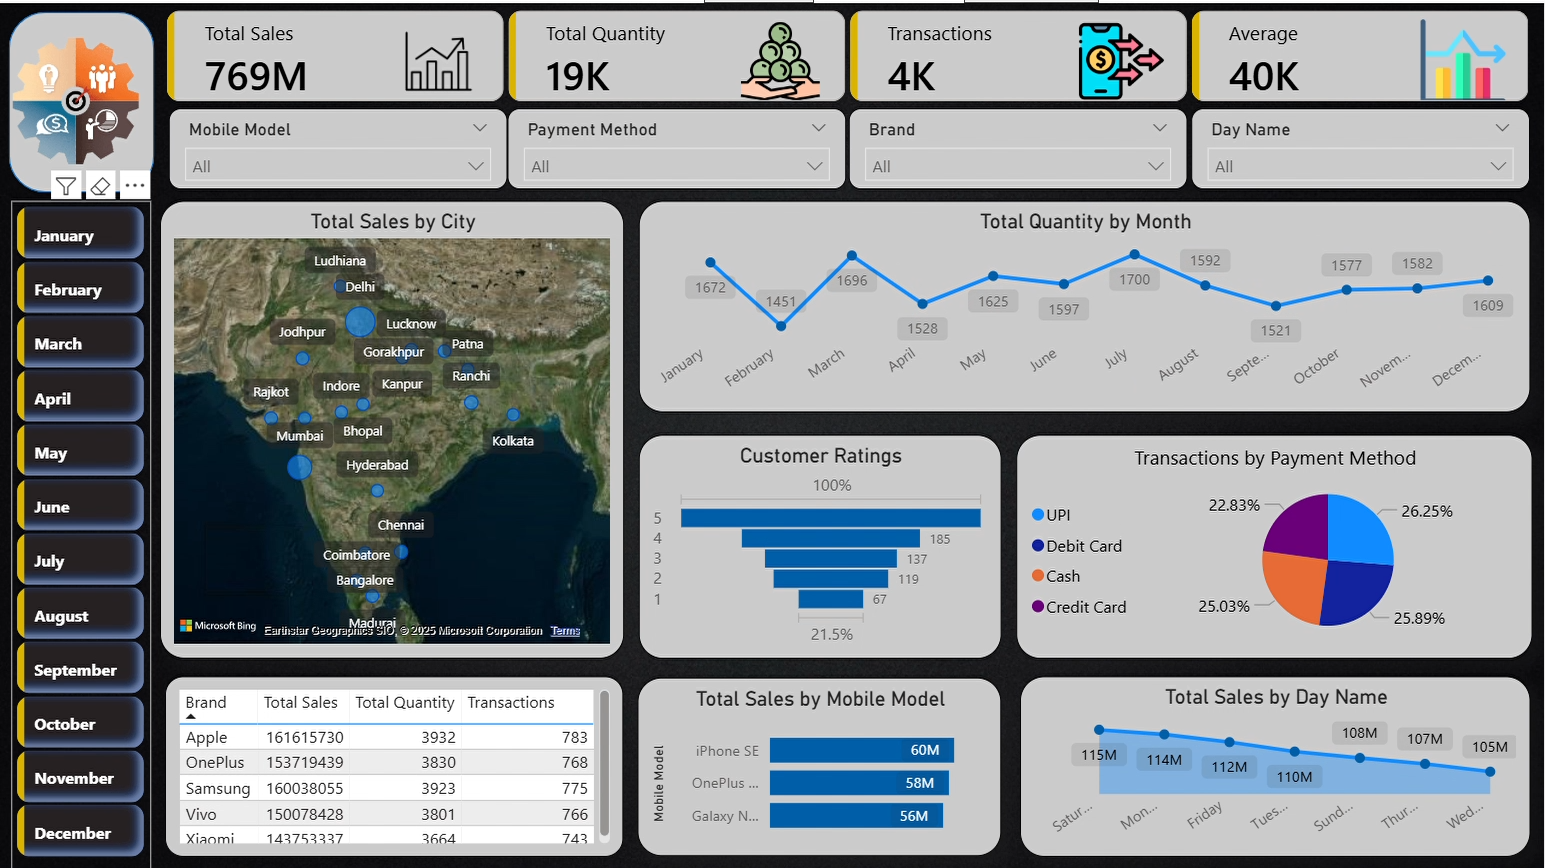

The dashboard page shown, as its layout file describes it:
{"tool":"powerbi","page":{"name":"MyProject","canvas":[1280,720],"ordinal":0},"visuals":[{"type":"shape","box":[7.2,7.2,120.6,149.6],"z":0},{"type":"advancedSlicerVisual","fields":{"Values":["Sales_Data.Date.Variation.Date Hierarchy.Month"]},"box":[9.7,164.1,115.8,556.2],"z":1000},{"type":"cardVisual","fields":{"Data":["Sales_Data.Total Sales","Sales_Data.Total Quantity","Sales_Data.Transactions","Sales_Data.Average"]},"box":[133.9,6,1140.1,80.8],"z":2000},{"type":"map","fields":{"Category":["Sales_Data.City"],"Size":["Sales_Data.Total Sales"]},"box":[132.7,164.1,384.9,378.8],"z":3000},{"type":"lineChart","fields":{"Y":["Sales_Data.Total Quantity"],"Category":["Sales_Data.Date.Variation.Date Hierarchy.Month","Sales_Data.Date.Variation.Date Hierarchy.Day"]},"box":[529.6,164.1,739.5,174.9],"z":4000},{"type":"clusteredBarChart","fields":{"Category":["Sales_Data.Mobile Model"],"Y":["Sales_Data.Total Sales"]},"box":[528.4,558.6,301.6,148.4],"z":5000},{"type":"pieChart","fields":{"Category":["Sales_Data.Payment Method"],"Y":["Sales_Data.Transactions"]},"box":[842.1,357.1,428.3,185.8],"z":6000},{"type":"funnel","title":"Customer Ratings","fields":{"Category":["Sales_Data.Customer Ratings"],"Y":["CountNonNull(Sales_Data.Customer Ratings)"]},"box":[529.6,357.1,300.4,185.8],"z":7000},{"type":"areaChart","fields":{"Category":["Sales_Data.Day Name"],"Y":["Sales_Data.Total Sales"]},"box":[845.7,557.4,423.5,149.6],"z":8000},{"type":"tableEx","fields":{"Values":["Sales_Data.Brand","Sales_Data.Total Sales","Sales_Data.Total Quantity","Sales_Data.Transactions"]},"box":[136.3,557.4,380,149.6],"z":9000},{"type":"slicer","fields":{"Values":["Sales_Data.Mobile Model"]},"box":[139.9,86.9,281.1,67.6],"z":10000},{"type":"slicer","fields":{"Values":["Sales_Data.Payment Method"]},"box":[421,86.9,281.1,67.6],"z":11000},{"type":"slicer","fields":{"Values":["Sales_Data.Brand"]},"box":[703.4,86.9,281.1,67.6],"z":12000},{"type":"slicer","fields":{"Values":["Sales_Data.Day Name"]},"box":[988.1,86.9,281.1,67.6],"z":13000},{"type":"image","box":[4.5,19,122.8,125.1],"z":14000}]}

Visuals, with their boxes in screenshot pixels (x1, y1, x2, y2), scaled from the page's 1280x720 canvas onto the 1545x868 screenshot:
shape: rect(9, 9, 154, 189)
advancedSlicerVisual - Sales_Data.Date.Variation.Date Hierarchy.Month: rect(12, 198, 151, 867)
cardVisual - Sales_Data.Total Sales x Sales_Data.Total Quantity: rect(162, 7, 1538, 105)
map - Sales_Data.City x Sales_Data.Total Sales: rect(160, 198, 625, 654)
lineChart - Sales_Data.Total Quantity x Sales_Data.Date.Variation.Date Hierarchy.Month: rect(639, 198, 1532, 409)
clusteredBarChart - Sales_Data.Mobile Model x Sales_Data.Total Sales: rect(638, 673, 1002, 852)
pieChart - Sales_Data.Payment Method x Sales_Data.Transactions: rect(1016, 431, 1533, 654)
"Customer Ratings" funnel: rect(639, 431, 1002, 654)
areaChart - Sales_Data.Day Name x Sales_Data.Total Sales: rect(1021, 672, 1532, 852)
tableEx - Sales_Data.Brand x Sales_Data.Total Sales: rect(165, 672, 623, 852)
slicer - Sales_Data.Mobile Model: rect(169, 105, 508, 186)
slicer - Sales_Data.Payment Method: rect(508, 105, 847, 186)
slicer - Sales_Data.Brand: rect(849, 105, 1188, 186)
slicer - Sales_Data.Day Name: rect(1193, 105, 1532, 186)
image: rect(5, 23, 154, 174)
